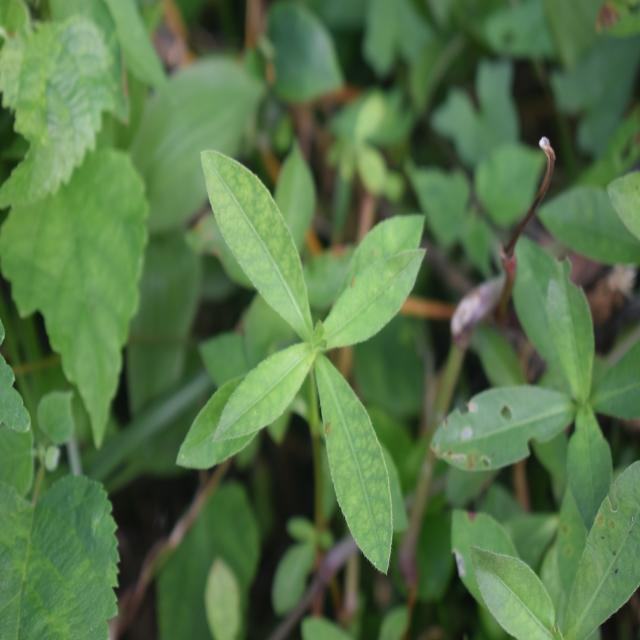Alligatorweed: (182, 150, 407, 540)
